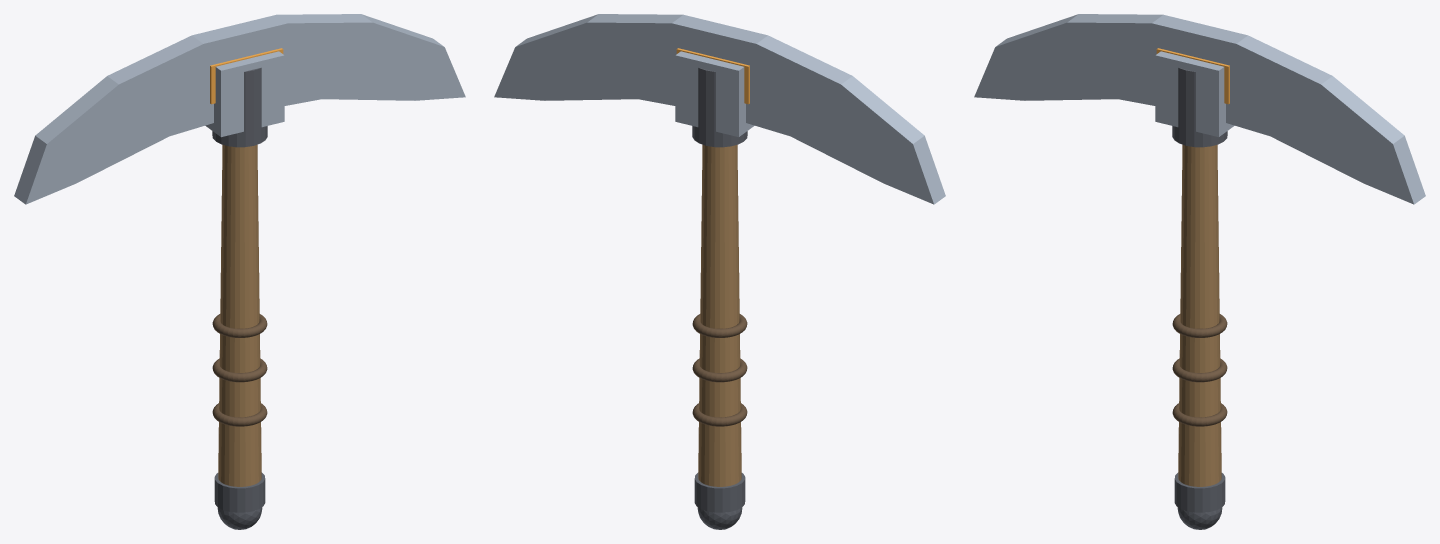
The model's file is pickaxe.glb.
3 renders of one model, left to right at view 1: azimuth 30°, elevation 25°; view 2: azimuth 150°, elevation 25°; view 3: azimuth 330°, elevation 25°, orthographic.
Parts seen in each view (by area): view 1: Blade, Handle, Socket, Collar, Pommel, PommelKnob, GripRing2, GripRing1, GripRing0; view 2: Blade, Handle, Socket, Collar, Pommel, PommelKnob, GripRing2, GripRing1, GripRing0; view 3: Blade, Handle, Socket, Collar, Pommel, PommelKnob, GripRing2, GripRing1, GripRing0.
Part boxes in pixels (bbox=[...]): Blade: bbox=[14, 14, 465, 204]; Handle: bbox=[218, 144, 261, 486]; Socket: bbox=[205, 51, 284, 137]; Collar: bbox=[212, 67, 267, 147]; Pommel: bbox=[214, 472, 265, 512]; PommelKnob: bbox=[217, 507, 262, 529]; GripRing2: bbox=[212, 314, 267, 337]; GripRing1: bbox=[212, 358, 267, 382]; GripRing0: bbox=[212, 403, 267, 426]; Blade: bbox=[494, 14, 945, 204]; Handle: bbox=[698, 144, 741, 486]; Socket: bbox=[675, 51, 754, 137]; Collar: bbox=[692, 67, 747, 147]; Pommel: bbox=[694, 472, 745, 512]; PommelKnob: bbox=[697, 507, 742, 529]; GripRing2: bbox=[692, 314, 747, 337]; GripRing1: bbox=[692, 358, 747, 382]; GripRing0: bbox=[692, 403, 747, 426]; Blade: bbox=[974, 14, 1425, 204]; Handle: bbox=[1178, 144, 1221, 486]; Socket: bbox=[1155, 51, 1234, 137]; Collar: bbox=[1172, 67, 1227, 147]; Pommel: bbox=[1174, 472, 1225, 512]; PommelKnob: bbox=[1177, 507, 1222, 529]; GripRing2: bbox=[1172, 314, 1227, 337]; GripRing1: bbox=[1172, 358, 1227, 382]; GripRing0: bbox=[1172, 403, 1227, 426].
Bounding box in the file's own units: 1.04 × 1.13 × 0.114.
